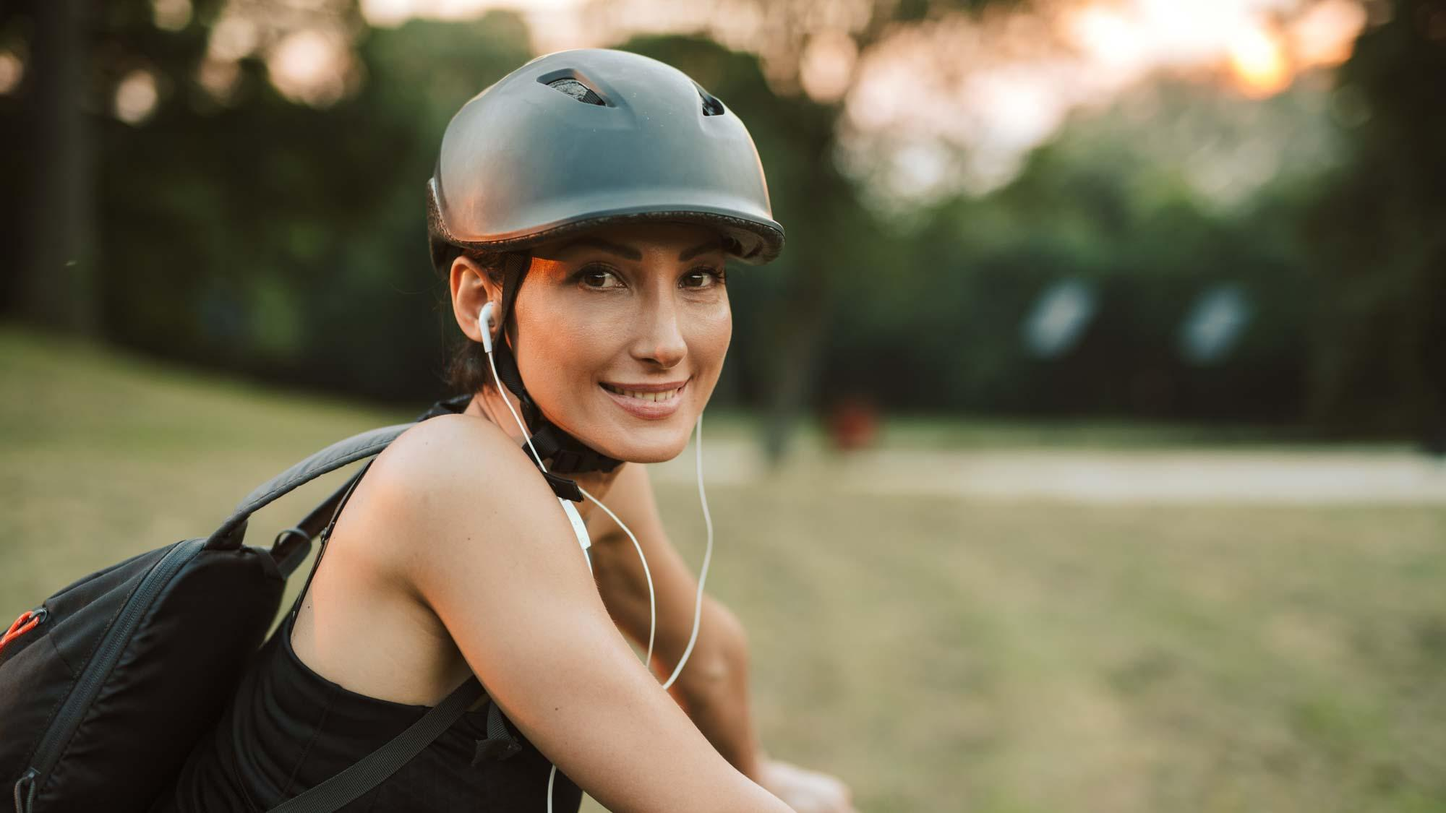helmet: (315, 25, 832, 317)
